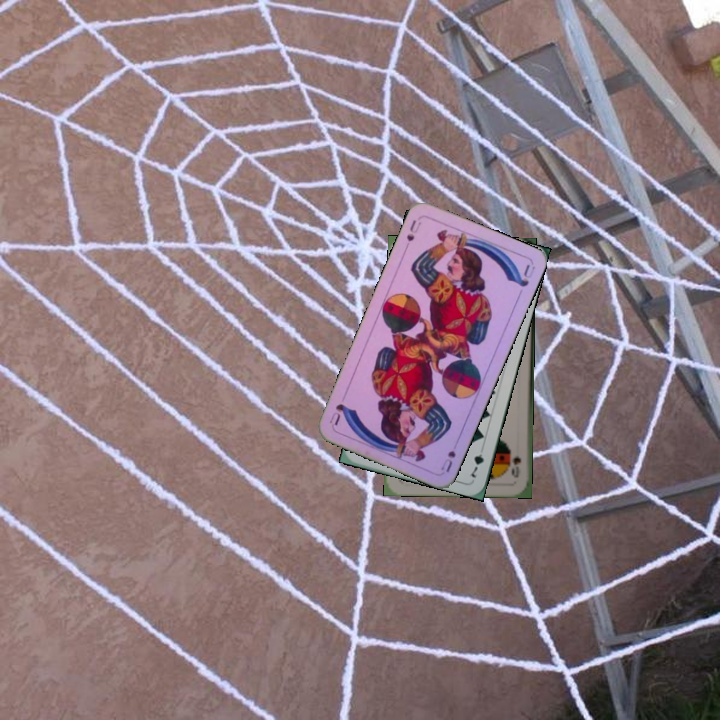G7: (465, 441, 487, 480)
SO: (508, 451, 523, 480)
SU: (437, 435, 461, 475), (401, 216, 424, 253)
